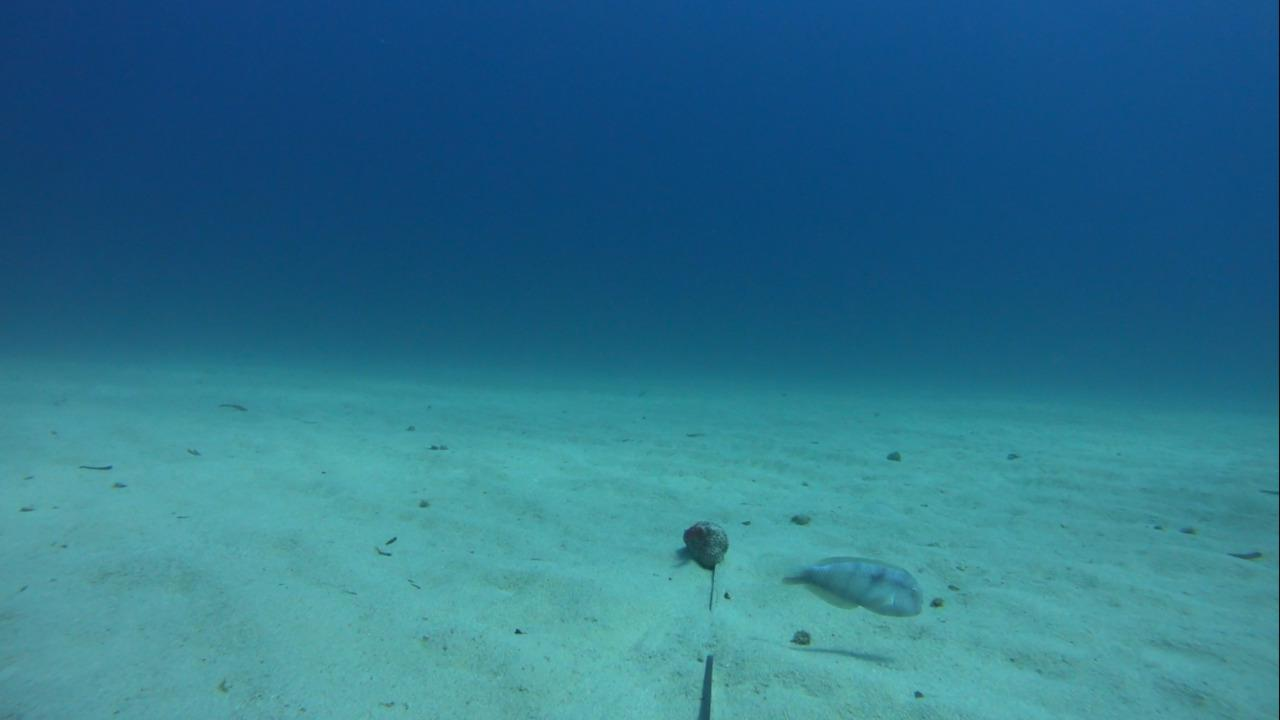raor: (780, 554, 929, 624)
